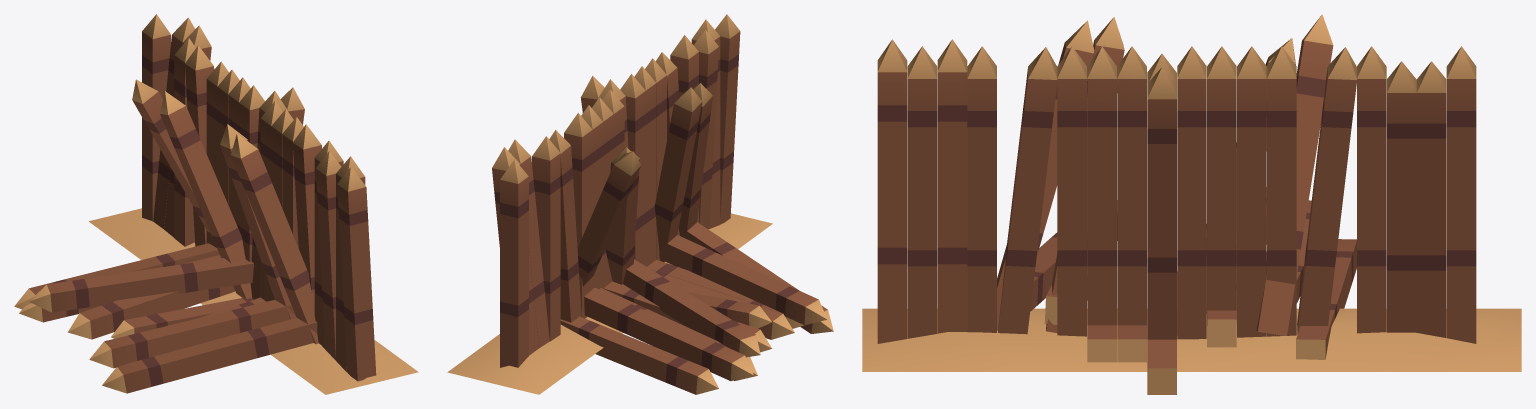
Rendered from Wooden Wall 2.fbx.
The picture shows the model from 3 angles, left to right: view 1: azimuth 30°, elevation 25°; view 2: azimuth 150°, elevation 25°; view 3: azimuth 270°, elevation 25°; orthographic projection. The views are drawn at different scales.
Visible parts, largest first — view 1: Destruction_phase_1, Wall, Destruction_phase_2; view 2: Destruction_phase_1, Wall, Destruction_phase_2; view 3: Wall, Destruction_phase_1, Destruction_phase_2.
Part boxes in pixels (x1=…): Destruction_phase_1: x1=19, y1=17, x2=376, y2=376; Wall: x1=89, y1=14, x2=418, y2=394; Destruction_phase_2: x1=14, y1=243, x2=317, y2=393; Destruction_phase_1: x1=492, y1=14, x2=772, y2=380; Wall: x1=447, y1=14, x2=772, y2=394; Destruction_phase_2: x1=560, y1=222, x2=833, y2=394; Wall: x1=862, y1=39, x2=1521, y2=371; Destruction_phase_1: x1=877, y1=14, x2=1476, y2=347; Destruction_phase_2: x1=1030, y1=187, x2=1356, y2=394.
Bounding box in the file's own units: 1.29 × 1.19 × 2.2.
1 material, 1 textured.
